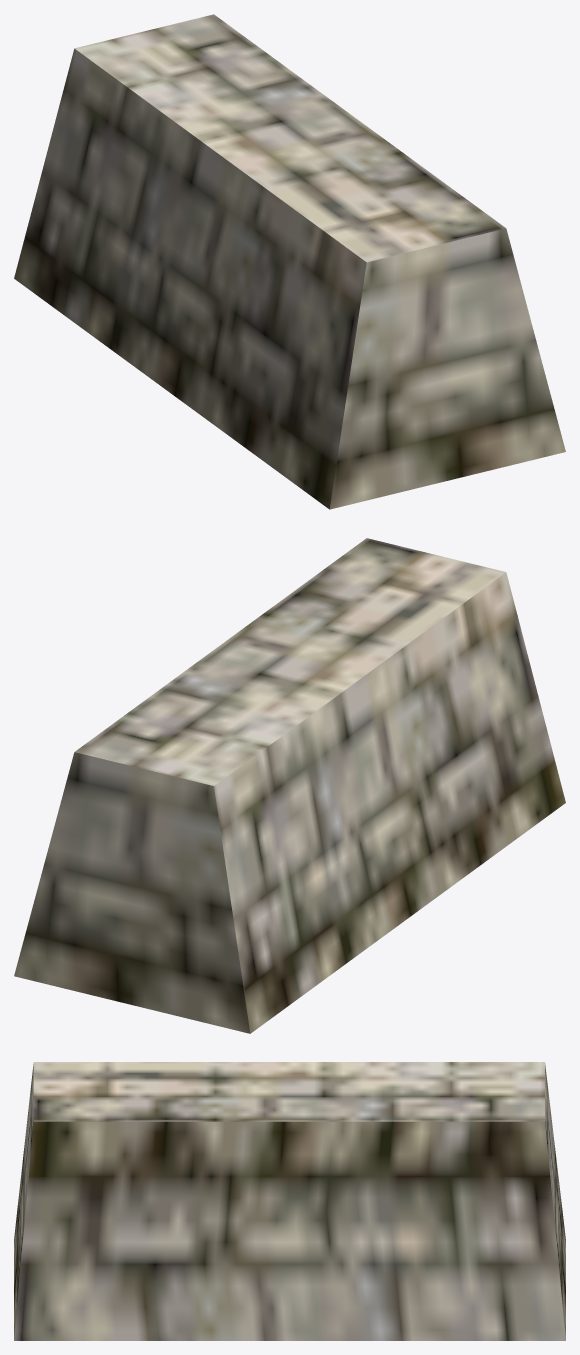
The model's file is long-brick.glb.
3 views of the same model, one above another, from view 1: azimuth 30°, elevation 25°; view 2: azimuth 150°, elevation 25°; view 3: azimuth 270°, elevation 25° (orthographic). The views are drawn at different scales.
Visible parts, largest first — view 1: building construction g long brickModel; view 2: building construction g long brickModel; view 3: building construction g long brickModel.
Part boxes in pixels (x1=…): building construction g long brickModel: x1=14, y1=14, x2=565, y2=509; building construction g long brickModel: x1=14, y1=538, x2=565, y2=1033; building construction g long brickModel: x1=14, y1=1062, x2=565, y2=1340.
Bounding box in the file's own units: 0.7109 × 0.653 × 1.64.
Materials: 2 (1 with a texture image).
